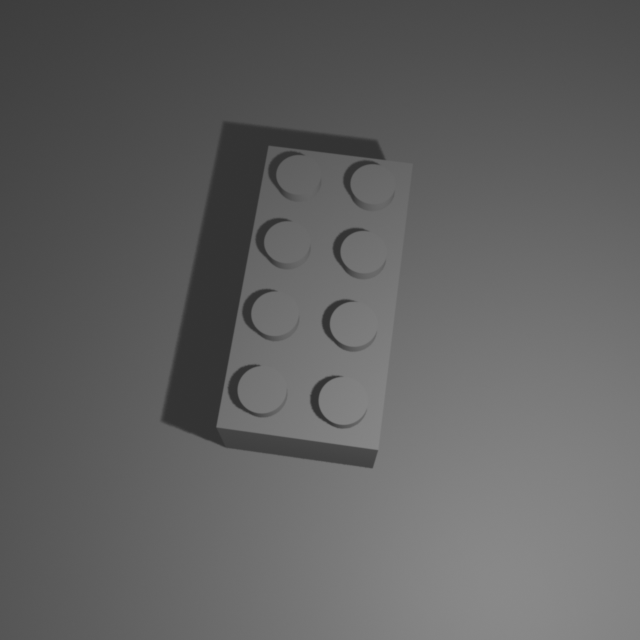lego_2x4: (215, 138, 414, 468)
